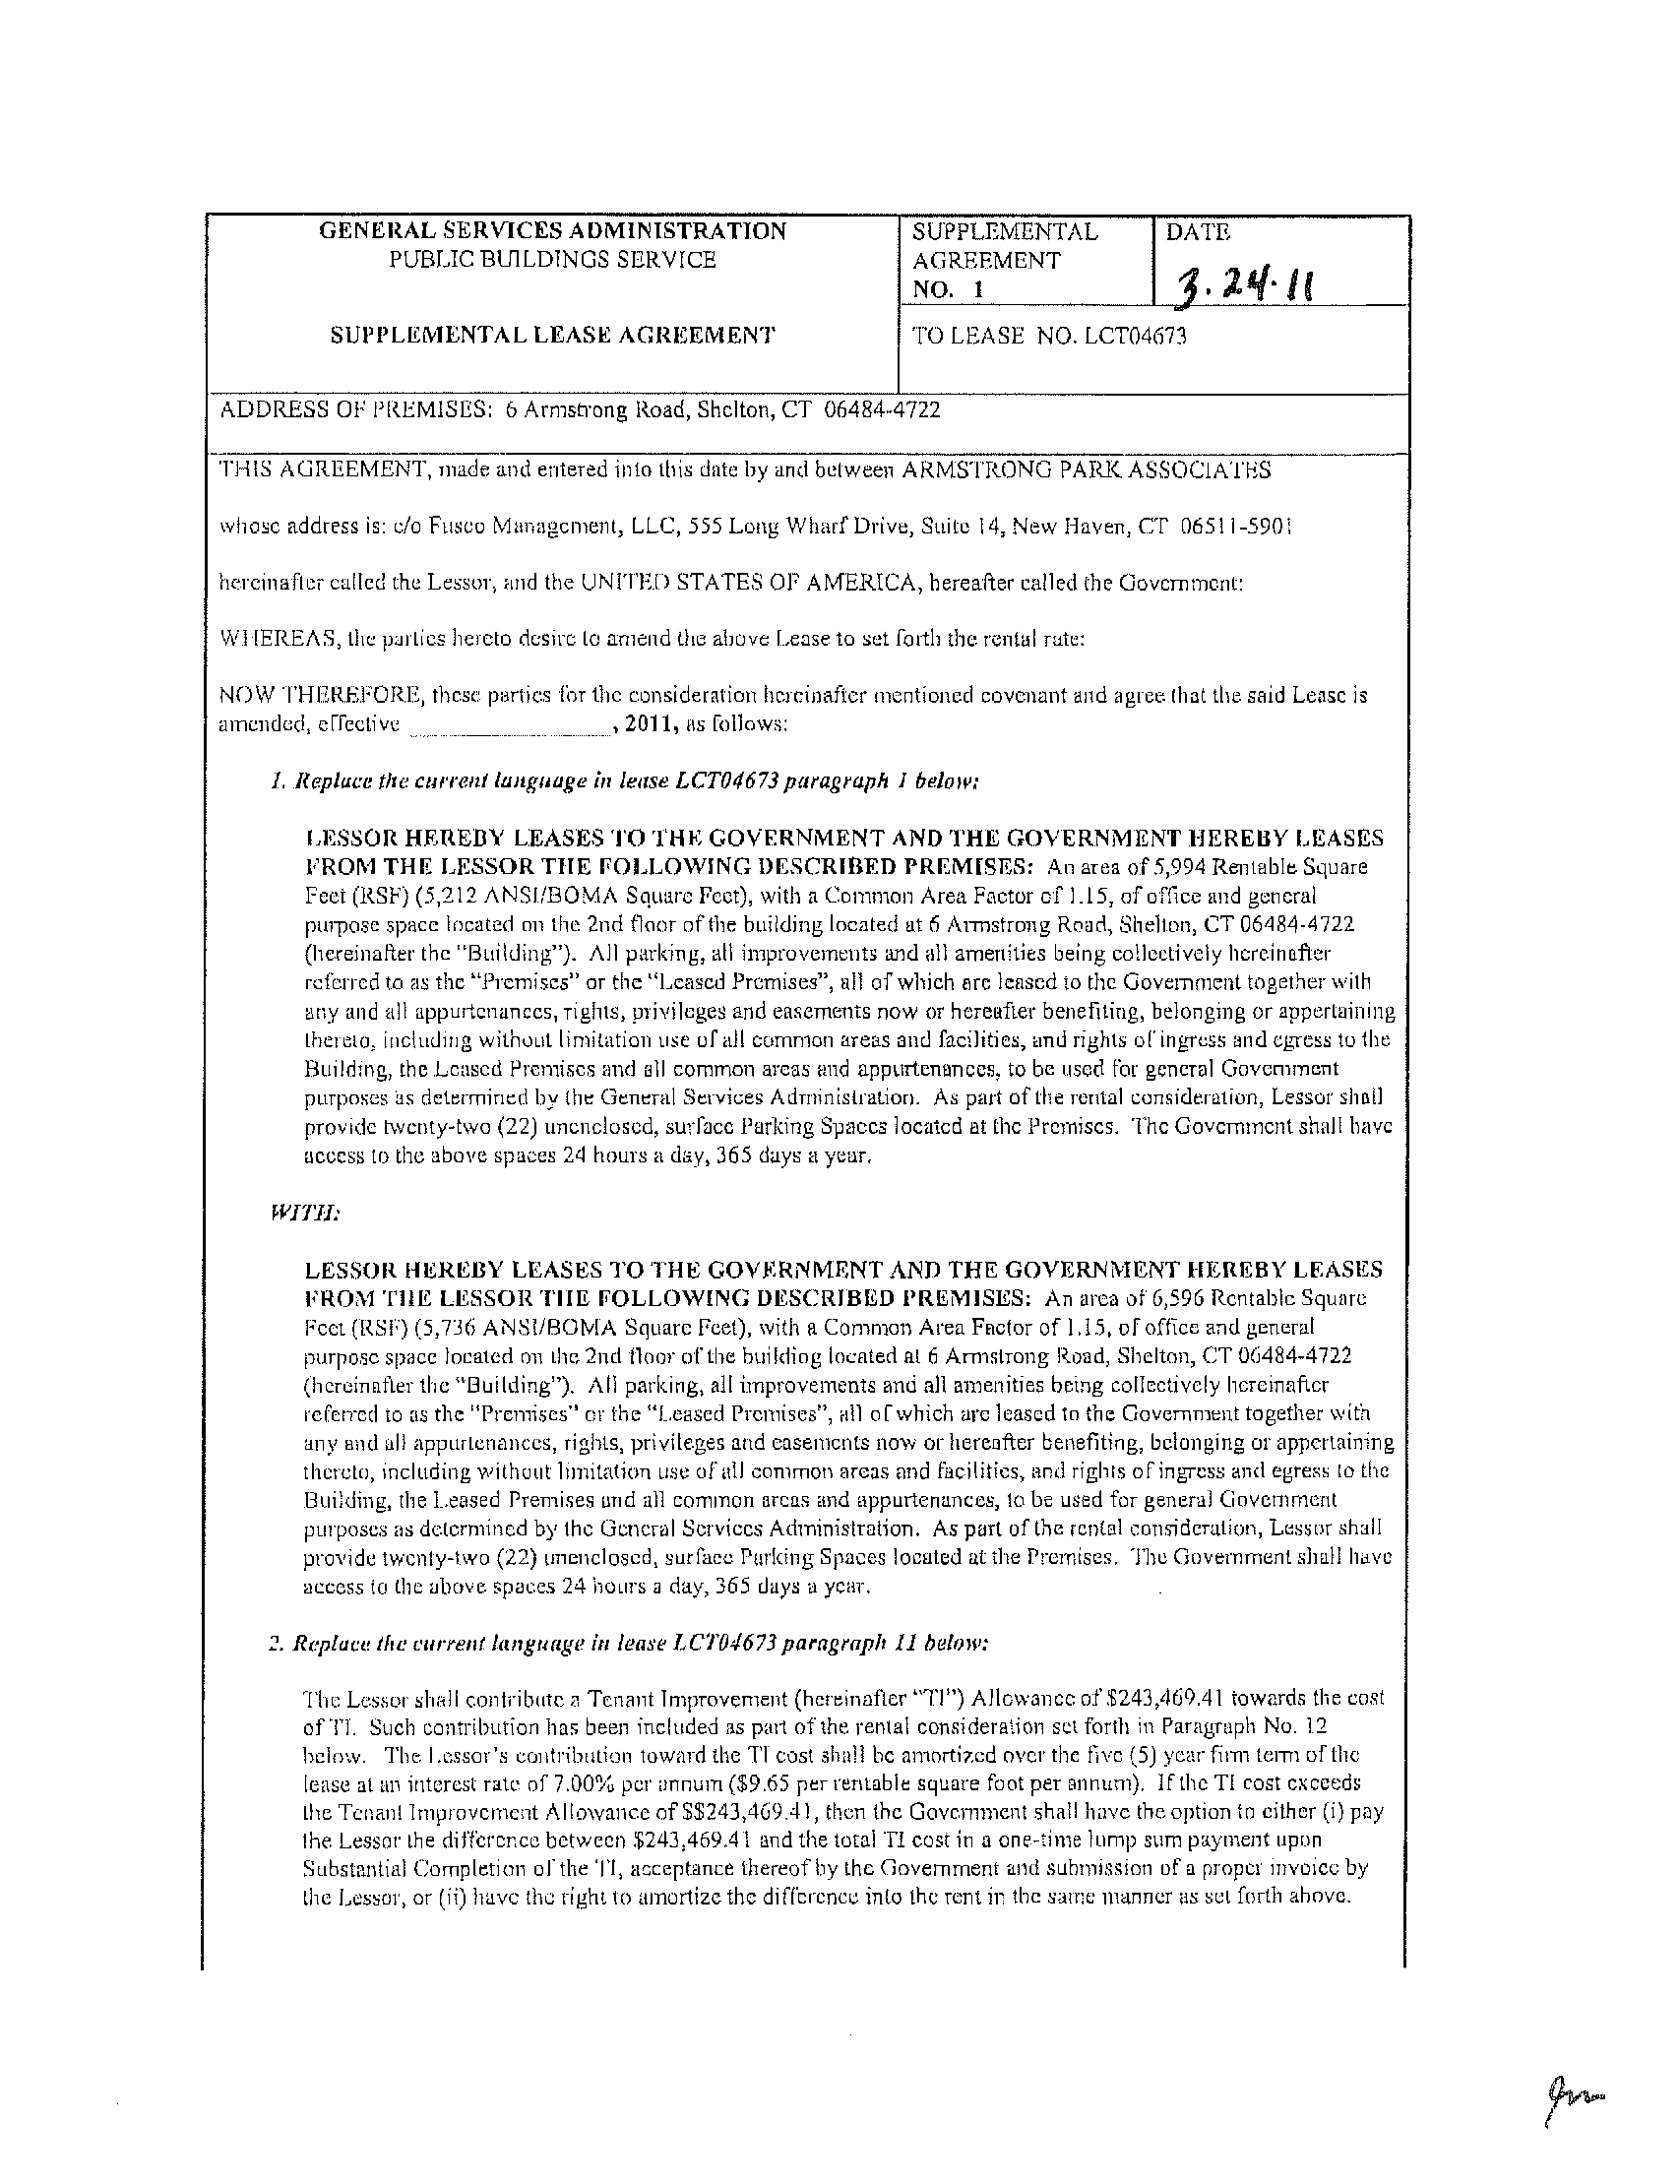handwritten: (1161, 249, 1343, 314), (1530, 2045, 1631, 2145)
